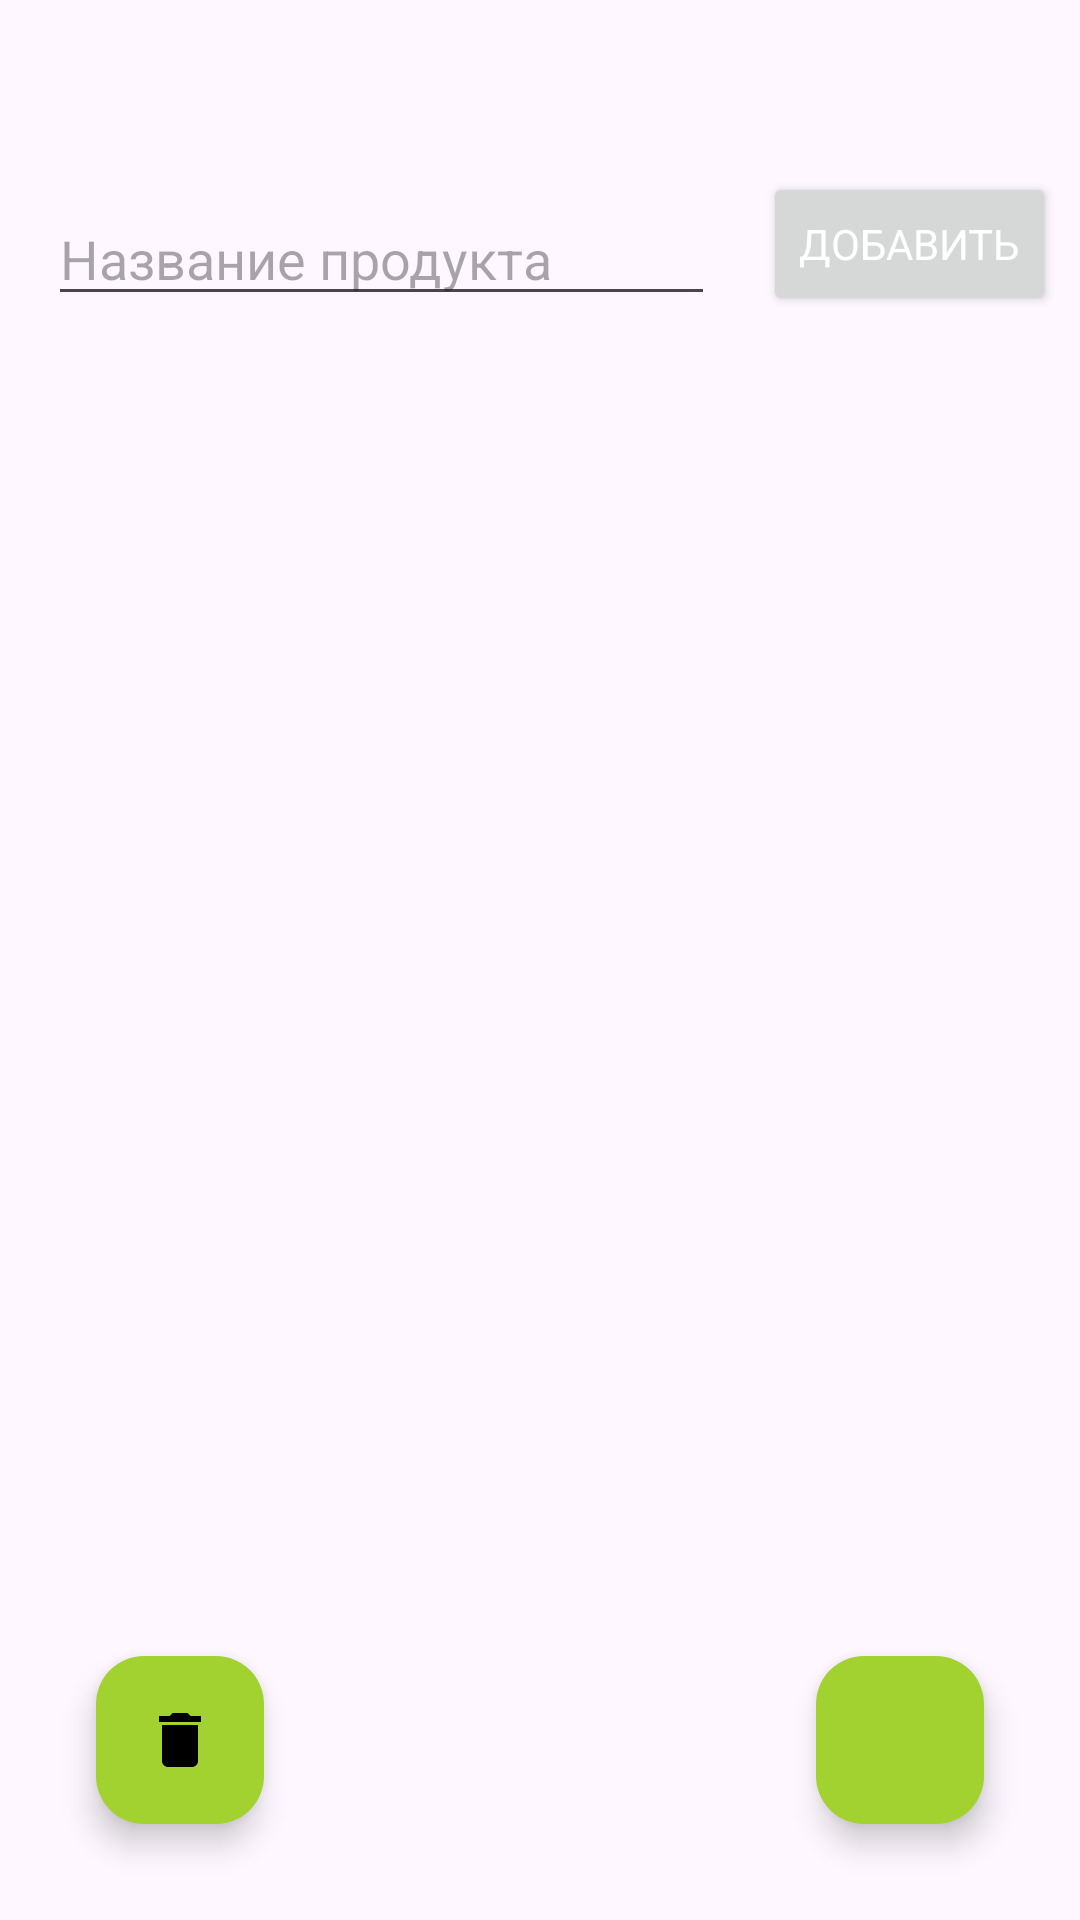

Screen size 1080px x 1920px. Icon name, then its box in pixels as (x1, y1, x2, y2):
delete: (96, 1656, 264, 1824)
